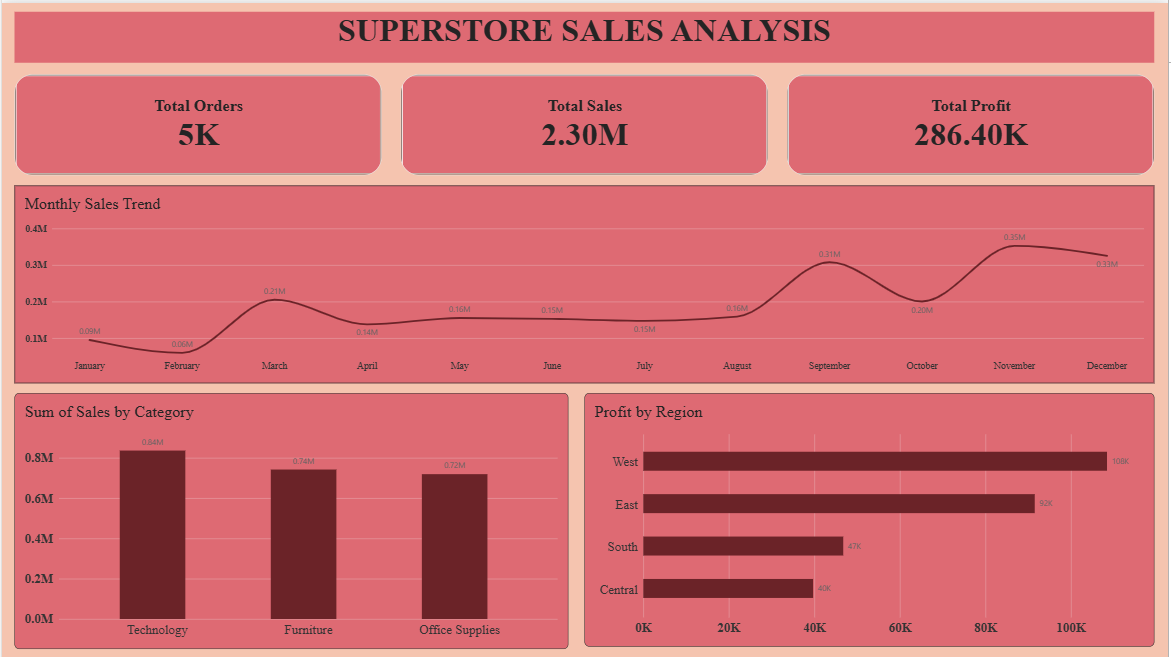

The page's visual inventory and layout, read from the dashboard file:
{"tool":"powerbi","page":{"name":"Page 1","canvas":[1920,1080],"ordinal":0},"visuals":[{"type":"cardVisual","fields":{"Data":["Sample - Superstore.Total Sales"]},"box":[656.6,117.3,605.1,166.7],"z":0},{"type":"cardVisual","fields":{"Data":["Sample - Superstore.Total Profit"]},"box":[1292.6,117.3,605.1,166.7],"z":1000},{"type":"cardVisual","fields":{"Data":["Sample - Superstore.Total Orders"]},"box":[20.6,117.3,605.1,166.7],"z":2000},{"type":"clusteredBarChart","title":"Profit by Region","fields":{"Category":["Sample - Superstore.Region"],"Y":["Sum(Sample - Superstore.Profit)"]},"box":[959.2,642.2,938.6,417.8],"z":3000},{"type":"lineChart","title":"Monthly Sales Trend","fields":{"Category":["Sample - Superstore.Order Date.Variation.Date Hierarchy.Month"],"Y":["Sum(Sample - Superstore.Sales)"]},"box":[20.6,300.5,1877.2,325.2],"z":4000},{"type":"textbox","box":[20.6,14.4,1877.2,84.4],"z":5000},{"type":"clusteredColumnChart","fields":{"Category":["Sample - Superstore.Category"],"Y":["Sum(Sample - Superstore.Sales)"]},"box":[20.6,642.2,911.8,422],"z":6000}]}

Visuals, with their boxes in screenshot pixels (x1, y1, x2, y2), scaled from the page's 1920x1080 canvas onto the 1171x657 screenshot:
cardVisual - Sample - Superstore.Total Sales: 400/71/770/173
cardVisual - Sample - Superstore.Total Profit: 788/71/1157/173
cardVisual - Sample - Superstore.Total Orders: 13/71/382/173
"Profit by Region" clusteredBarChart: 585/391/1157/645
"Monthly Sales Trend" lineChart: 13/183/1157/381
textbox: 13/9/1157/60
clusteredColumnChart - Sample - Superstore.Category x Sum(Sample - Superstore.Sales): 13/391/569/647
